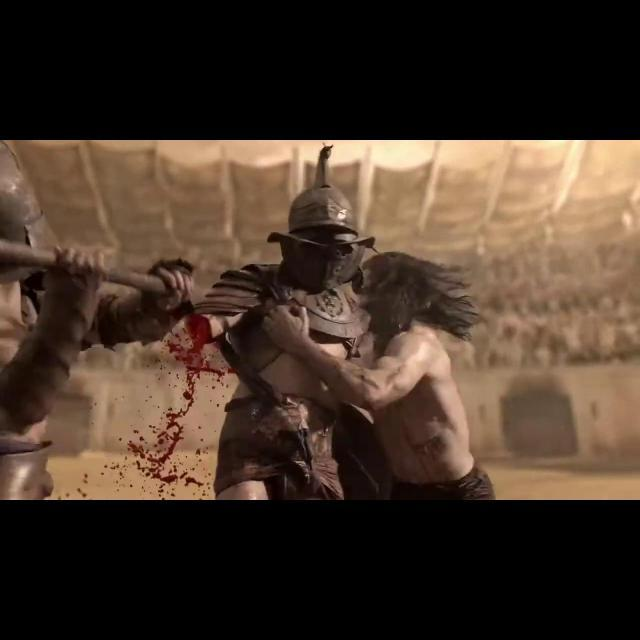blood: (48, 314, 232, 500)
